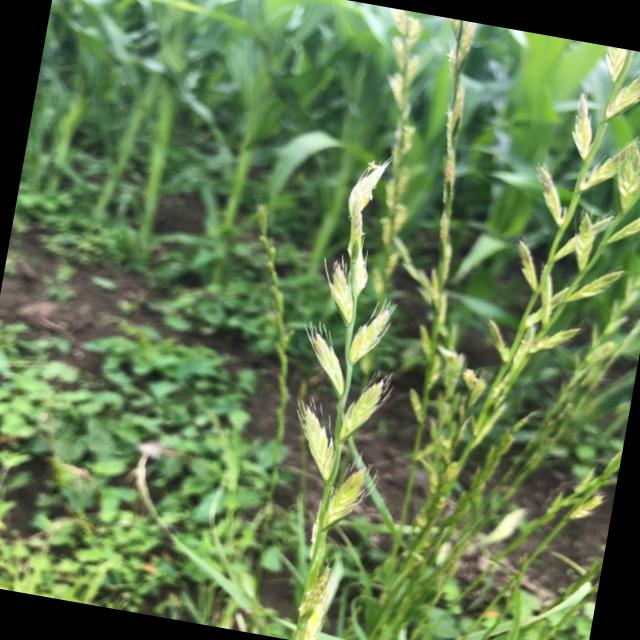Lolium: (314, 13, 528, 492), (438, 31, 640, 536), (247, 145, 437, 640)
